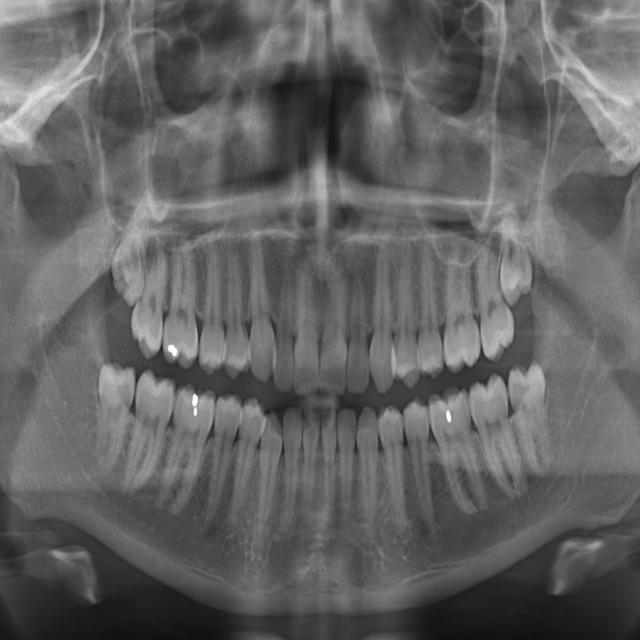3M ESPE Implant: (102, 183, 162, 307)
AGS Medikal Implant: (346, 261, 376, 396)
AMerOss Implant: (369, 232, 396, 395)
Amalgam filling: (388, 237, 422, 391)
Anthogyr Implant: (406, 228, 446, 381)
Bicon Implant: (439, 239, 482, 373)
BioHorizons Implant: (473, 232, 518, 365)
BioLife Implant: (498, 191, 535, 307)
Biomet 3i Implant: (547, 465, 548, 466)
Blue Sky Bio Implant: (464, 371, 530, 508)
Camlog Implant: (424, 381, 490, 523)
Caries: (127, 222, 171, 361)
Composite filling: (400, 395, 445, 539)
Cowellmedi Implant: (376, 402, 416, 542)
Crown: (356, 405, 379, 533)
DENTSPLY Implant: (338, 407, 356, 524)
Dentatus Implant: (321, 406, 337, 522)
Dentis Implant: (299, 404, 322, 514)
Dentium Implant: (277, 404, 303, 530)
Euroteknika Implant: (252, 410, 284, 546)
Filling: (218, 393, 269, 532)
Frontier Implant: (200, 390, 244, 539)
Hiossen Implant: (161, 231, 204, 371)
Implant: (128, 482, 132, 489)
Implant Direct: (151, 379, 220, 520)
Keystone Dental Implant: (100, 436, 111, 469)
MIS Implant: (198, 231, 225, 377)
Mandible: (225, 226, 251, 381)
Maxilla: (248, 224, 275, 385)
Megagen Implant: (273, 246, 295, 395)
Neodent Implant: (293, 262, 321, 398)
Neoss Implant: (317, 263, 355, 396)
